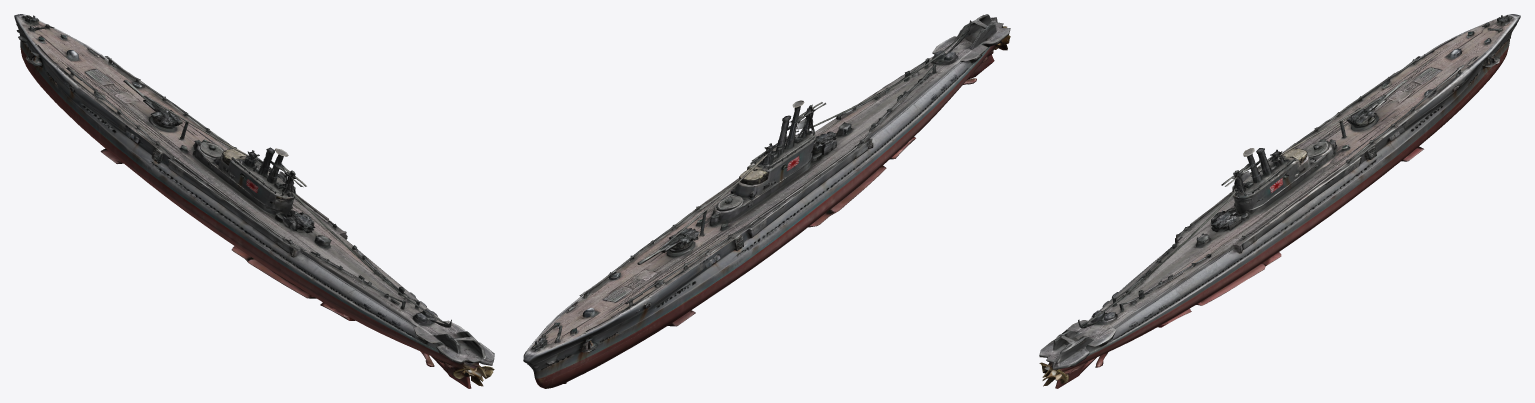
Rendered from submarine.i168.glb.
3 renders of one model, left to right at view 1: azimuth 30°, elevation 25°; view 2: azimuth 150°, elevation 25°; view 3: azimuth 330°, elevation 25°, orthographic.
Visible parts, largest first — view 1: tripo_node_cec6efd5-fde9-48bc-b589-b526a880f371; view 2: tripo_node_cec6efd5-fde9-48bc-b589-b526a880f371; view 3: tripo_node_cec6efd5-fde9-48bc-b589-b526a880f371.
Boxes of the visible parts, x1,y1,x2,y2 form: tripo_node_cec6efd5-fde9-48bc-b589-b526a880f371: [14, 14, 494, 388]; tripo_node_cec6efd5-fde9-48bc-b589-b526a880f371: [523, 14, 1010, 388]; tripo_node_cec6efd5-fde9-48bc-b589-b526a880f371: [1039, 14, 1520, 388].
Size of the model in its own units: 9.22 by 13.5 by 105.
Materials: 1 (1 with a texture image).
